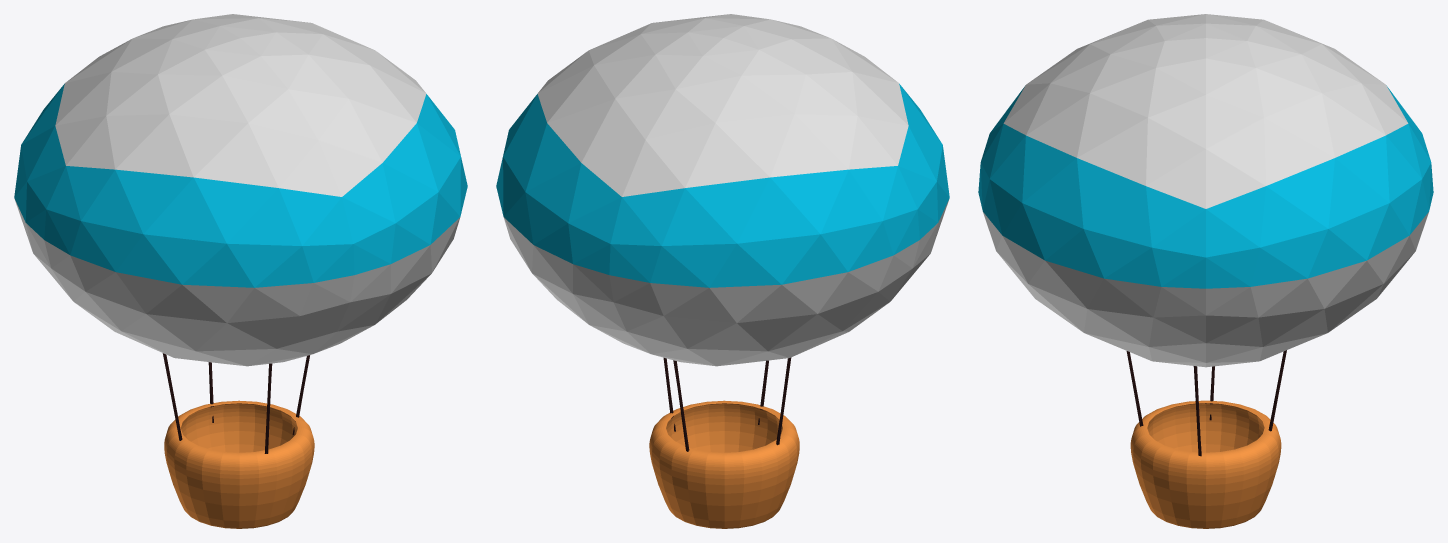
Rendered from ballon_blue.dae.
3 views of the same model, side by side, from view 1: azimuth 30°, elevation 25°; view 2: azimuth 150°, elevation 25°; view 3: azimuth 270°, elevation 25° (orthographic).
Parts seen in each view (by area): view 1: 气球, 底座; view 2: 气球, 底座; view 3: 气球, 底座.
Boxes of the visible parts, x1,y1,x2,y2 form: 气球: (14,14,467,366); 底座: (164,400,314,528); 气球: (496,14,949,366); 底座: (649,400,799,528); 气球: (978,14,1433,367); 底座: (1130,400,1281,528).
Bounding box in the file's own units: 535 × 606 × 535.
